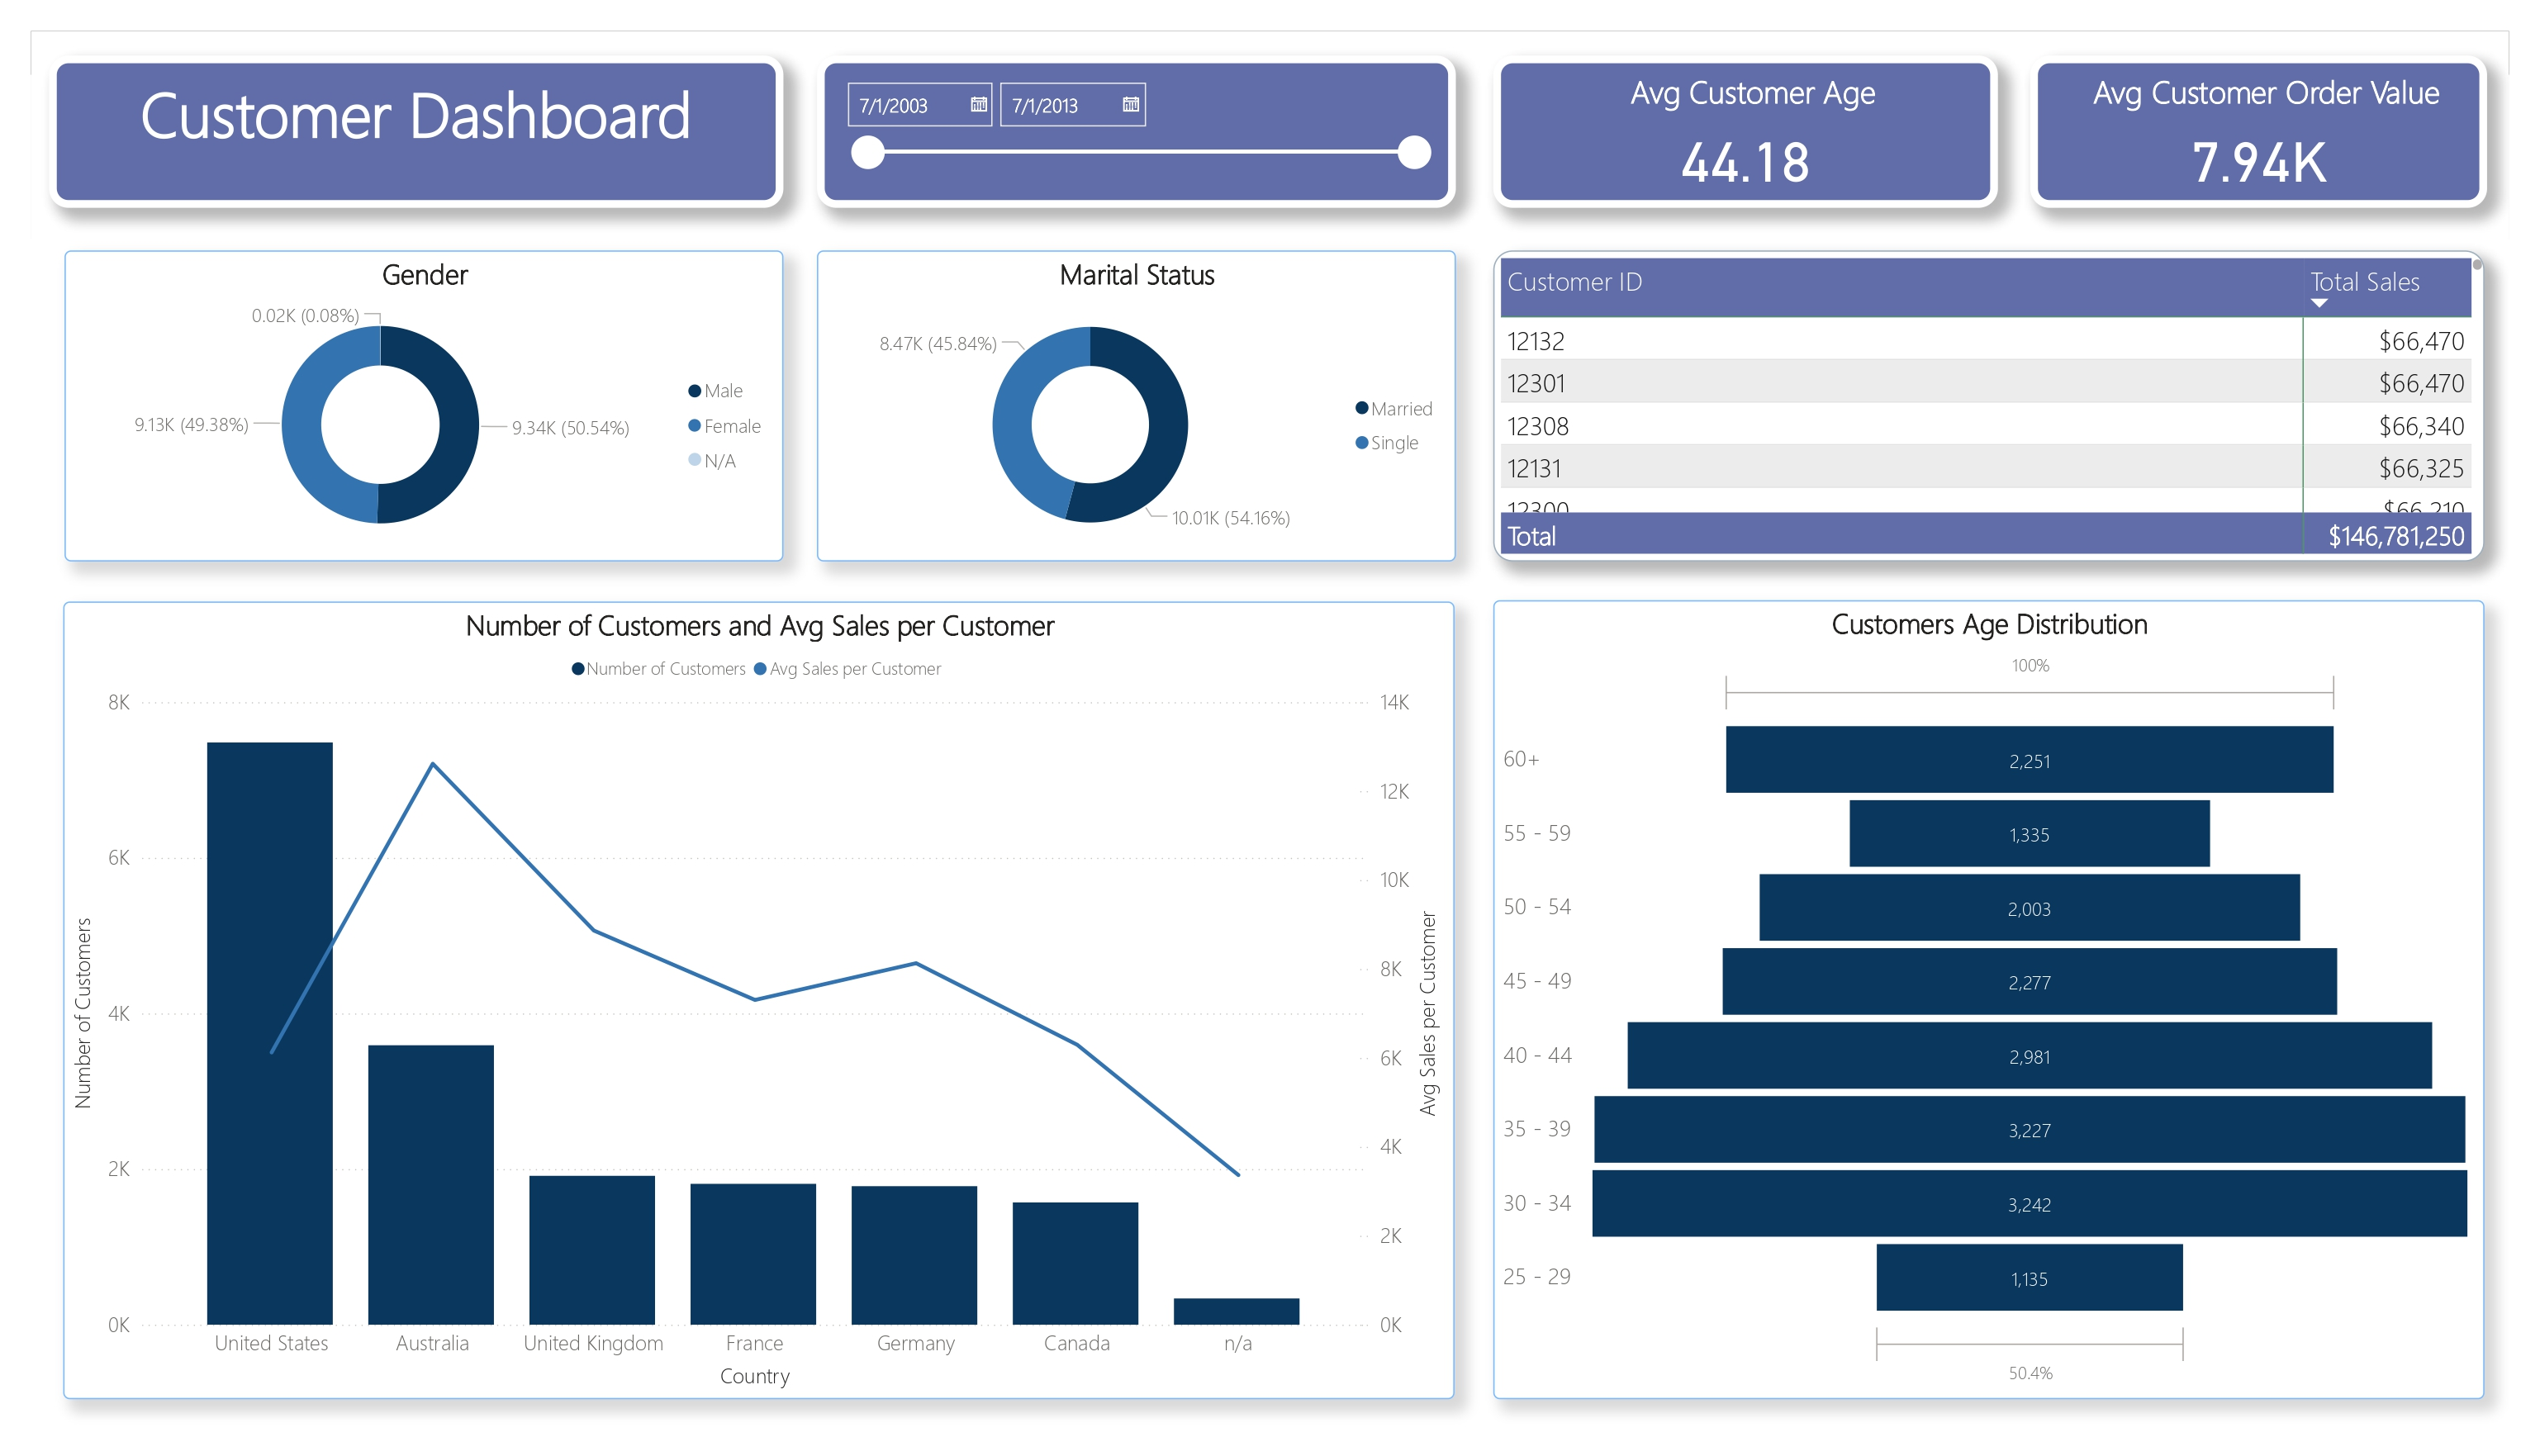

This screenshot's page, from the dashboard's own definition file:
{"tool":"powerbi","page":{"name":"Customers","canvas":[1920,1080],"ordinal":1},"visuals":[{"type":"donutChart","title":"Gender","fields":{"Category":["dim_customers.gender"],"Y":["CountNonNull(dim_customers.gender)"]},"box":[25.7,170,557.1,241.4],"z":0},{"type":"donutChart","title":"Marital Status","fields":{"Category":["dim_customers.marital_status"],"Y":["CountNonNull(dim_customers.marital_status)"]},"box":[608.6,170,495.7,241.4],"z":1000},{"type":"funnel","title":"Customers Age Distribution","fields":{"Category":["dim_customers.age_category"],"Y":["CountNonNull(dim_customers.age_category)"]},"box":[1132.9,441.4,768.6,618.6],"z":2000},{"type":"card","title":"Avg Customer Age","fields":{"Values":["Avg(dim_customers.age_at_last_purchase)"]},"box":[1132.9,18.6,391.4,118.6],"z":3000},{"type":"lineClusteredColumnComboChart","title":"Number of Customers and Avg Sales per Customer","fields":{"Category":["dim_customers.country"],"Y":["CountNonNull(dim_customers.country)"],"Y2":["measures_table.AvgSalesPerCustomer"]},"box":[25,441.7,1078.3,618.3],"z":4000},{"type":"textbox","box":[14.3,18.6,568.6,118.6],"z":5000},{"type":"card","title":"Avg Customer Order Value","fields":{"Values":["measures_table.AvgSalesPerCustomer"]},"box":[1548.6,18.6,354.3,118.6],"z":6000},{"type":"slicer","fields":{"Values":["dim_products.start_date"]},"box":[608.6,18.6,495.7,118.6],"z":7000},{"type":"pivotTable","fields":{"Rows":["dim_customers.customer_id"],"Values":["Sum(fact_sales.sales_amount)"]},"box":[1132.9,170,768.6,241.4],"z":8000}]}

Visuals, with their boxes on the page's 1920x1080 design canvas (x1, y1, x2, y2). These are canvas units, not pixel positions in the 2540x1456 screenshot, which may show the page scaled, cropped or inside an application window:
"Gender" donutChart: x1=26, y1=170, x2=583, y2=411
"Marital Status" donutChart: x1=609, y1=170, x2=1104, y2=411
"Customers Age Distribution" funnel: x1=1133, y1=441, x2=1902, y2=1060
"Avg Customer Age" card: x1=1133, y1=19, x2=1524, y2=137
"Number of Customers and Avg Sales per Customer" lineClusteredColumnComboChart: x1=25, y1=442, x2=1103, y2=1060
textbox: x1=14, y1=19, x2=583, y2=137
"Avg Customer Order Value" card: x1=1549, y1=19, x2=1903, y2=137
slicer - dim_products.start_date: x1=609, y1=19, x2=1104, y2=137
pivotTable - dim_customers.customer_id x Sum(fact_sales.sales_amount): x1=1133, y1=170, x2=1902, y2=411
